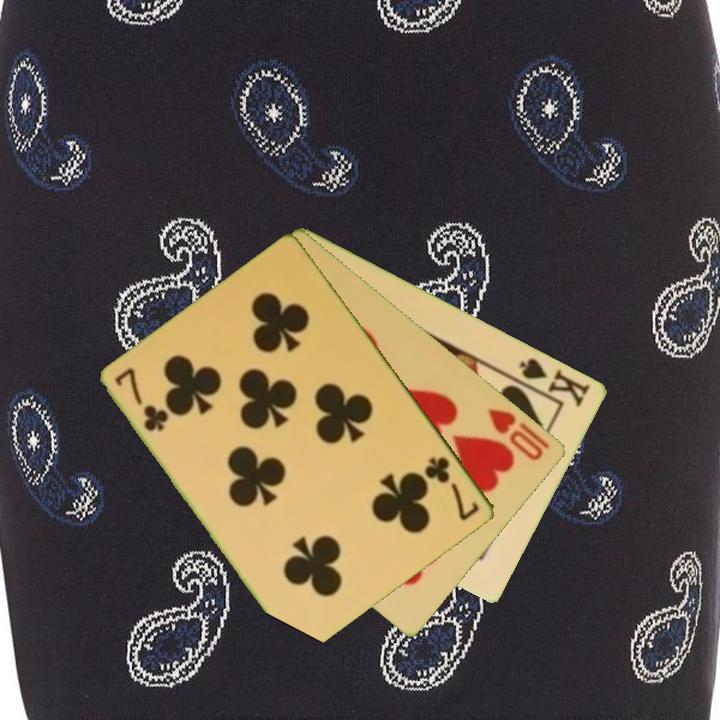10h: (484, 404, 553, 464)
7c: (421, 453, 483, 524), (111, 365, 171, 435)
Ks: (516, 354, 594, 410)
